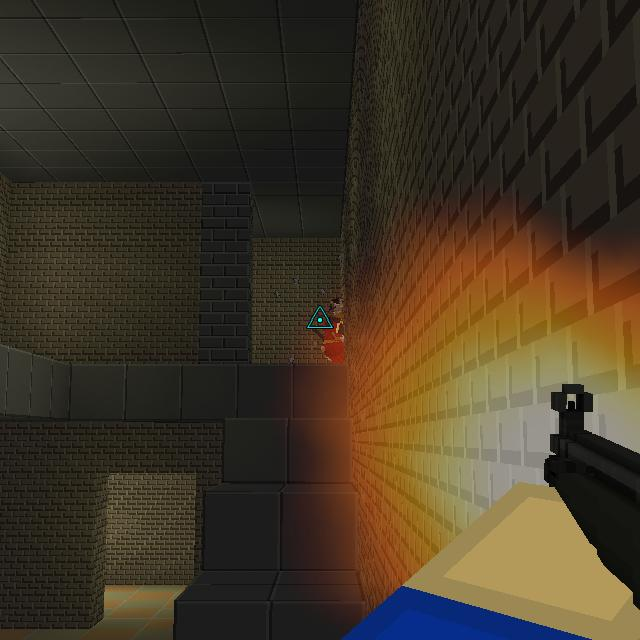enemy: (321, 292, 346, 365)
